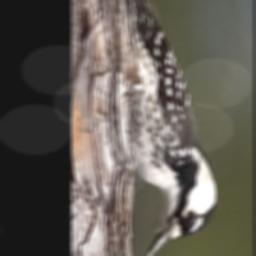Woodpecker: (116, 0, 221, 256)
